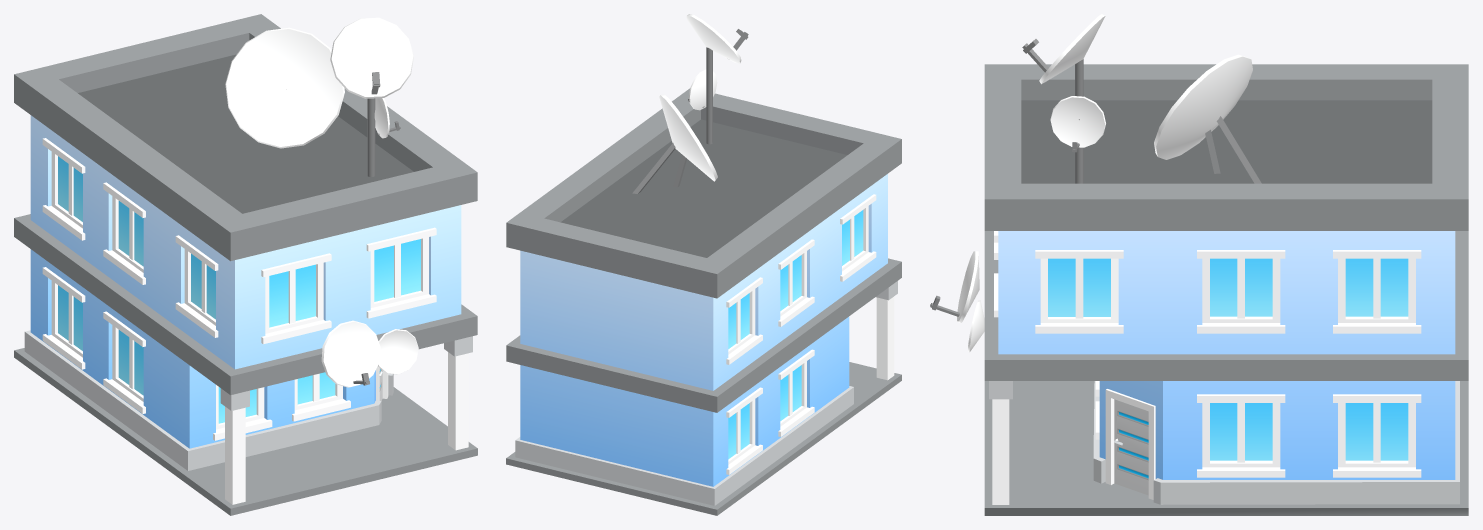
The model's file is Building_Institution_02.glb.
3 views of the same model, side by side, from view 1: azimuth 30°, elevation 25°; view 2: azimuth 150°, elevation 25°; view 3: azimuth 270°, elevation 25° (orthographic). The views are drawn at different scales.
Visible parts, largest first — view 1: Building_Institution_02; view 2: Building_Institution_02; view 3: Building_Institution_02.
Boxes of the visible parts, x1,y1,x2,y2 form: Building_Institution_02: (14, 14, 477, 515); Building_Institution_02: (506, 14, 901, 515); Building_Institution_02: (930, 14, 1468, 515).
Size of the model in its own units: 7.15 by 11.48 by 12.06.
Materials: 1 (1 with a texture image).
